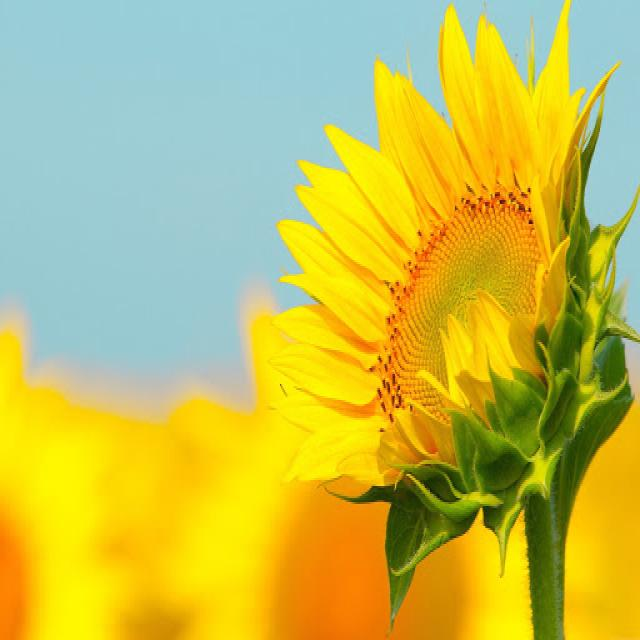sunflower: (255, 3, 610, 549)
